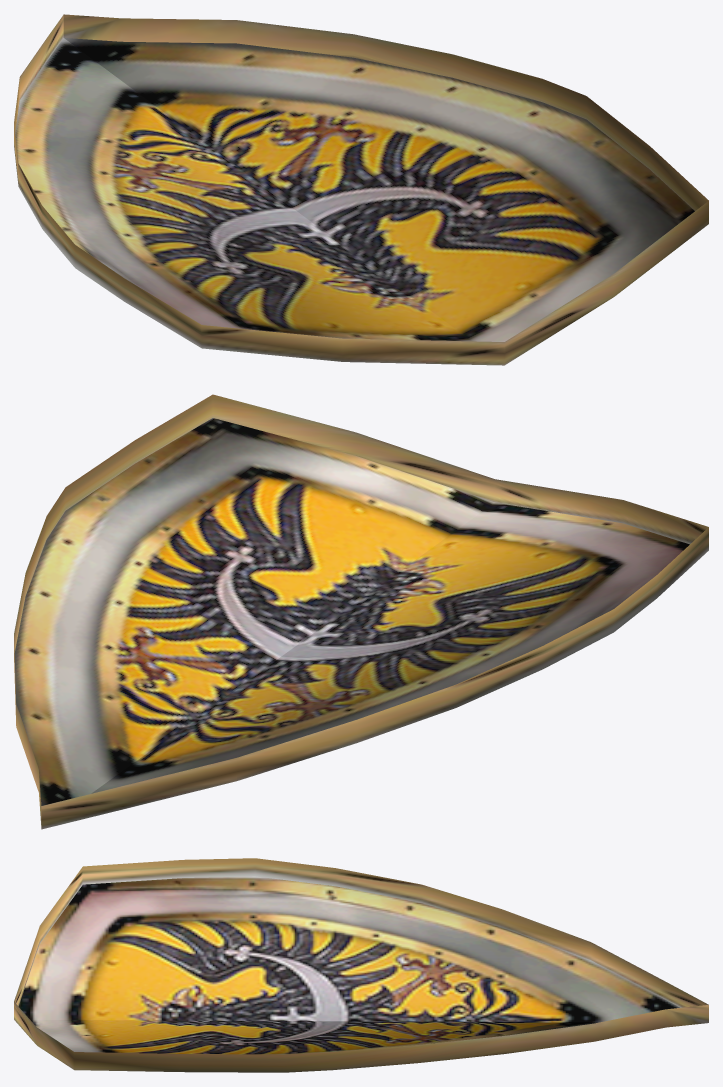
The model's file is shield_deco3.obj.
The picture shows the model from 3 angles, top to bottom: view 1: azimuth 30°, elevation 25°; view 2: azimuth 150°, elevation 25°; view 3: azimuth 270°, elevation 25°; orthographic projection. The views are drawn at different scales.
Parts seen in each view (by area): view 1: object; view 2: object; view 3: object.
Boxes of the visible parts, x1,y1,x2,y2 form: object: [14, 14, 708, 365]; object: [14, 394, 708, 829]; object: [14, 858, 708, 1072].
Size of the model in its own units: 41.4 by 6.06 by 60.5.
